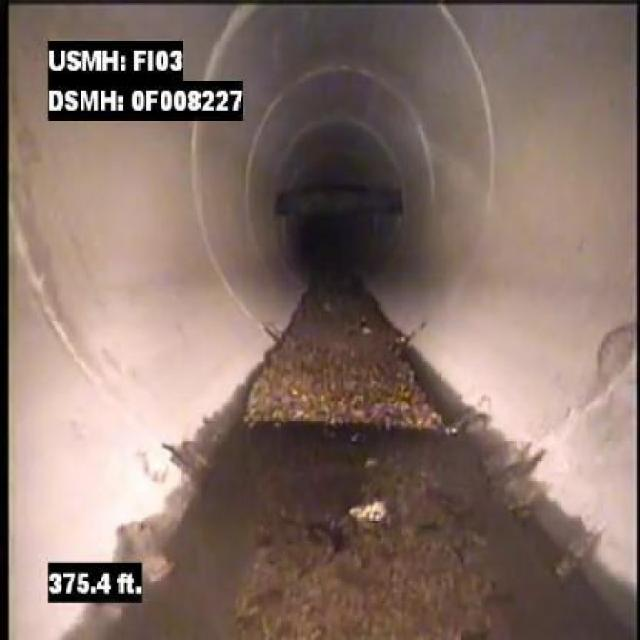Hole: (265, 489, 423, 597)
